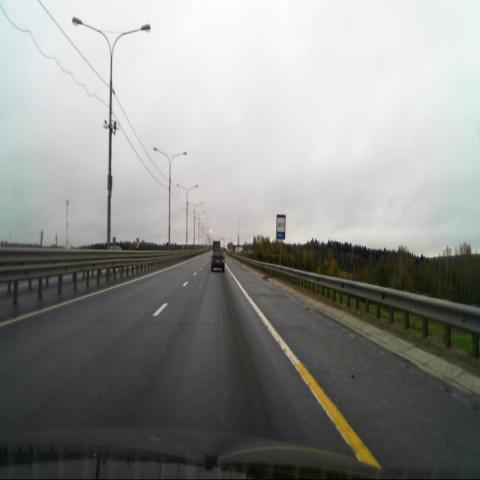7_12: (276, 214, 285, 239)
